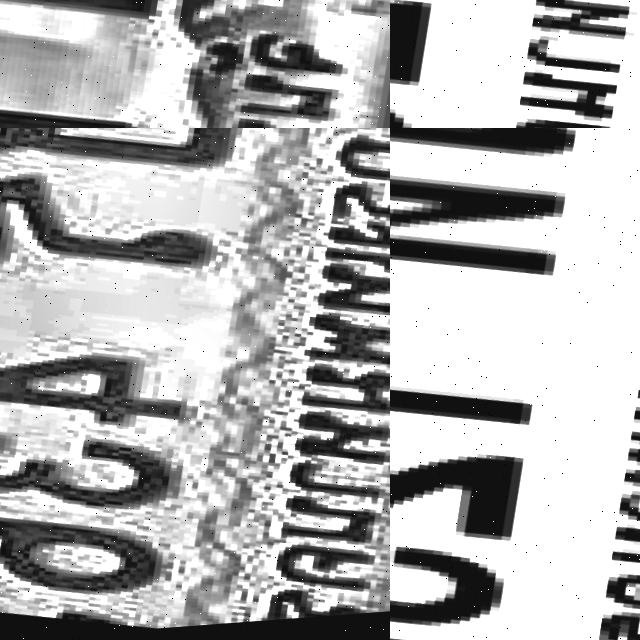license-plate: (0, 128, 390, 640), (390, 128, 640, 640), (0, 0, 390, 128), (390, 0, 640, 128)
